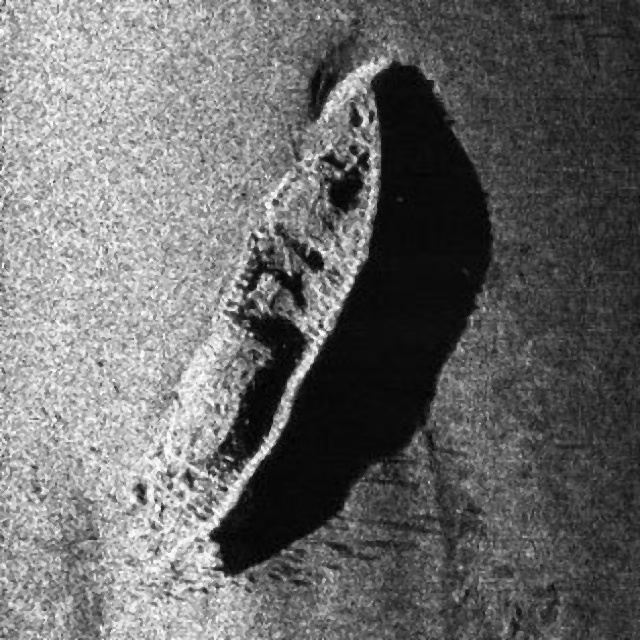Ship: (151, 49, 403, 554)
